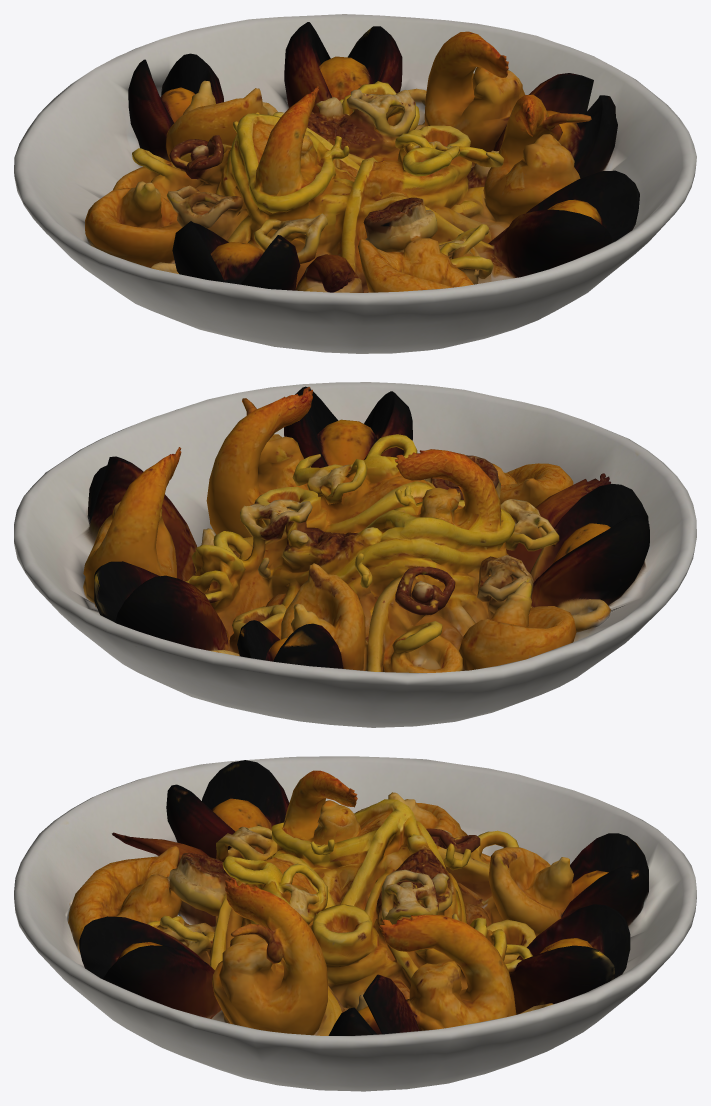
Rendered from frutti_di_mare.fbx.
3 views of the same model, one above another, from view 1: azimuth 30°, elevation 25°; view 2: azimuth 150°, elevation 25°; view 3: azimuth 270°, elevation 25° (orthographic).
Visible parts, largest first — view 1: meshes[0]; view 2: meshes[0]; view 3: meshes[0].
Boxes of the visible parts, x1,y1,x2,y2 form: meshes[0]: (14, 14, 696, 353); meshes[0]: (14, 382, 696, 727); meshes[0]: (14, 756, 696, 1091).
Size of the model in its own units: 99.8 by 36.91 by 99.8.
Materials: 1 (1 with a texture image).
